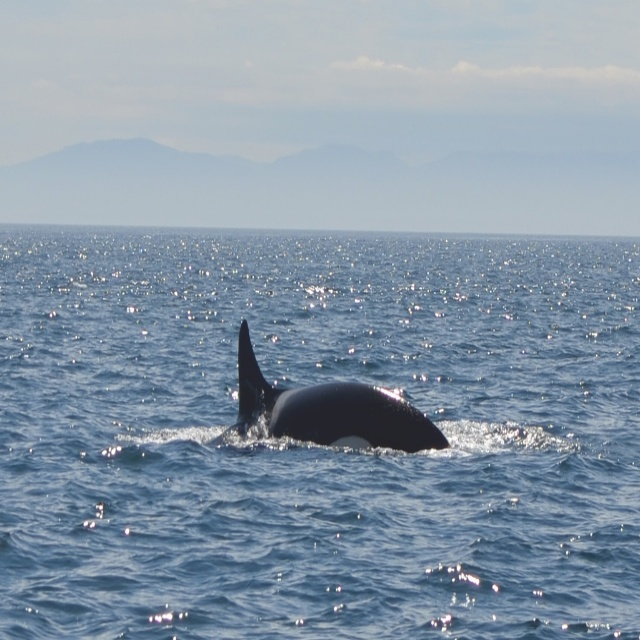Whale: (205, 319, 452, 454)
